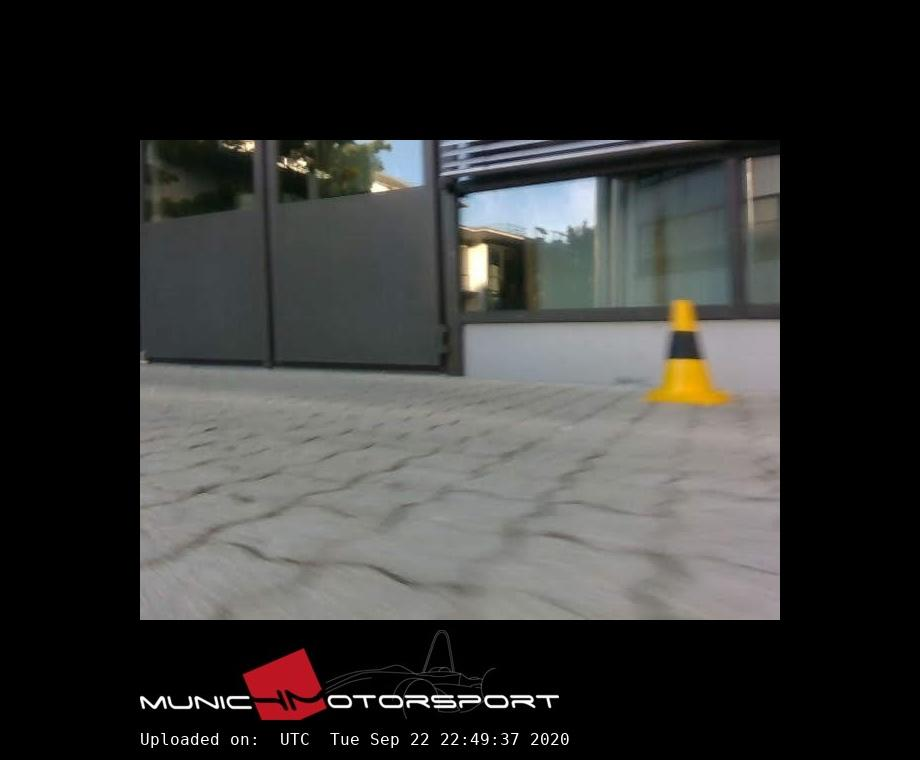yellow_cone: (641, 299, 727, 405)
